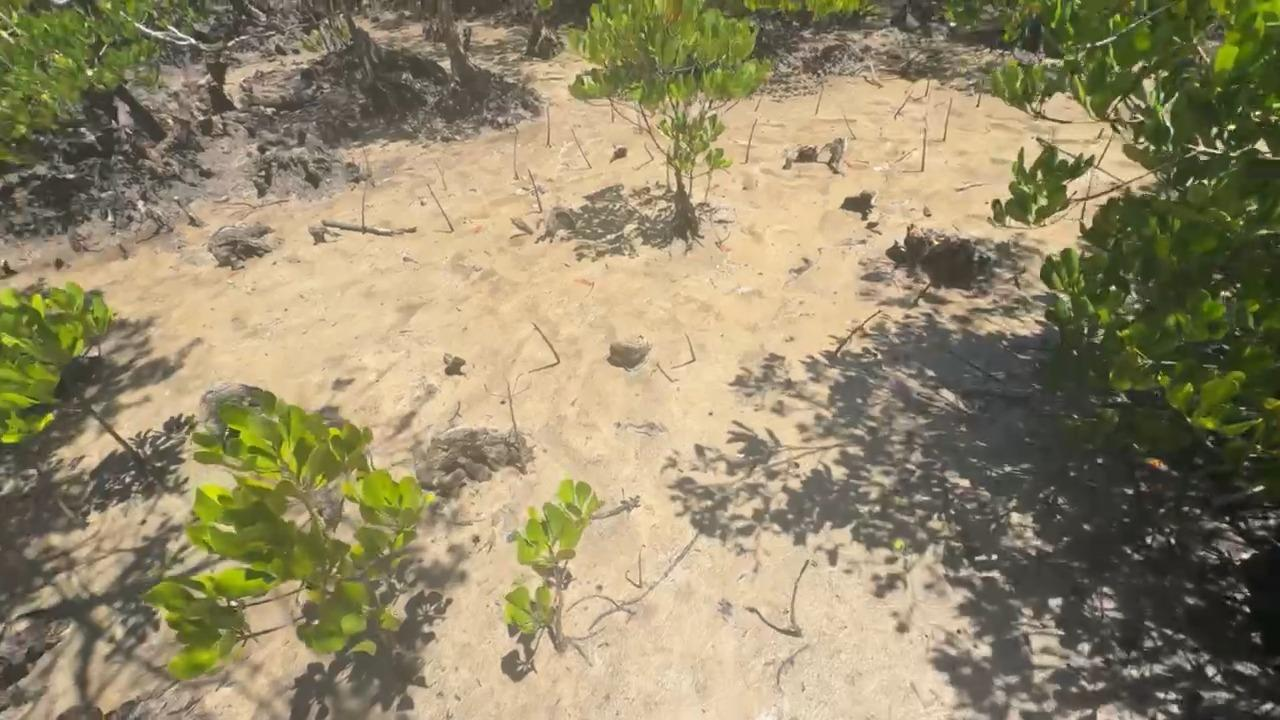Tree: (502, 479, 604, 654), (828, 310, 882, 361), (506, 382, 527, 475), (791, 559, 812, 635), (426, 183, 455, 230), (531, 321, 560, 363), (571, 129, 591, 169), (528, 169, 543, 213), (361, 145, 376, 187), (893, 91, 915, 119), (745, 117, 757, 163), (914, 280, 933, 303), (943, 98, 952, 140), (843, 114, 857, 139), (685, 332, 696, 361), (435, 162, 446, 190), (513, 129, 519, 179), (815, 83, 824, 115), (921, 129, 927, 172), (638, 551, 644, 586), (362, 182, 366, 233), (977, 80, 984, 107), (644, 145, 654, 161), (547, 106, 551, 146), (925, 72, 931, 97), (754, 98, 761, 111)
